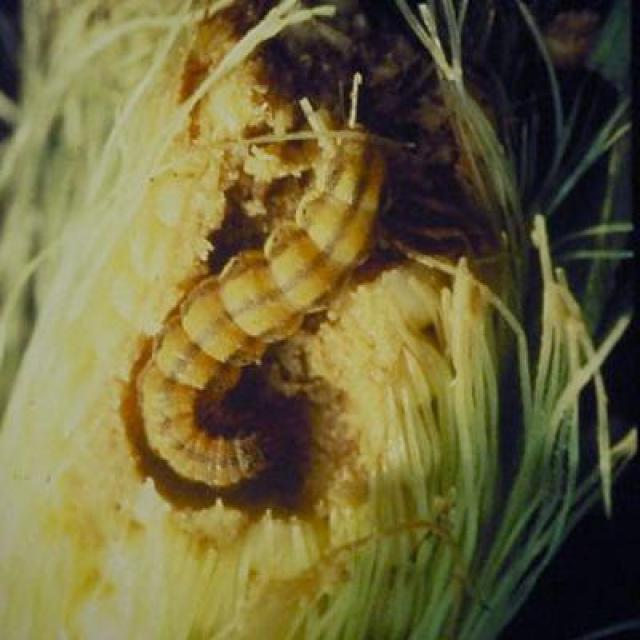Corn-earworm: (129, 116, 385, 529)
